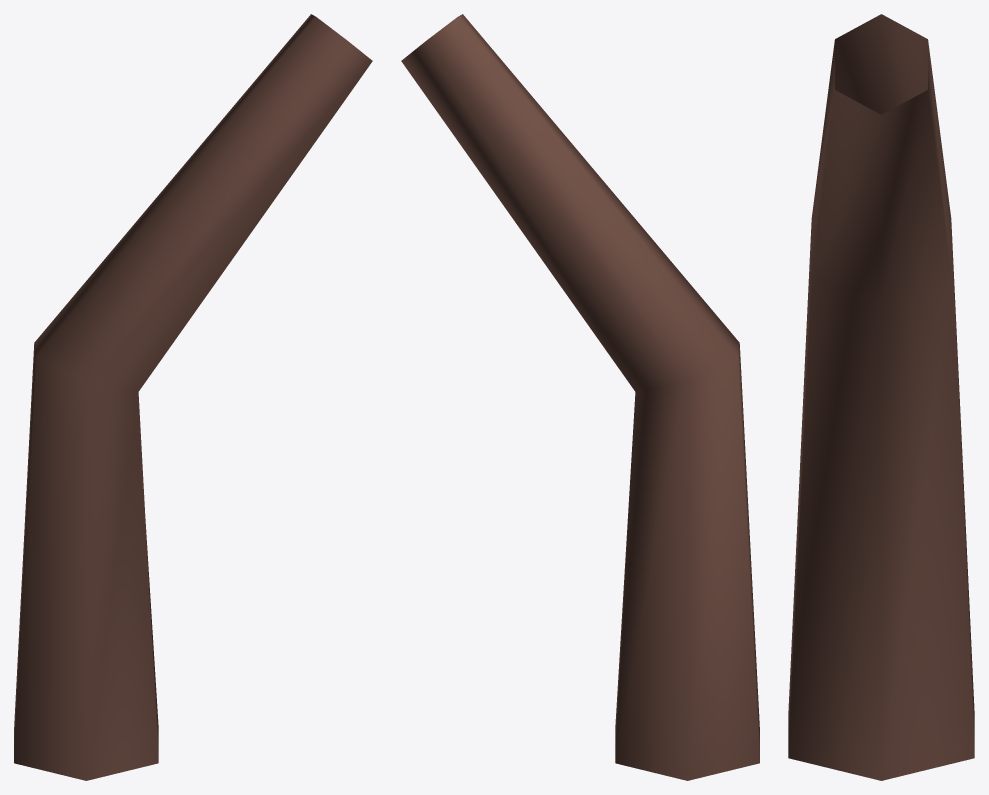
3 renders of one model, left to right at view 1: azimuth 30°, elevation 25°; view 2: azimuth 150°, elevation 25°; view 3: azimuth 270°, elevation 25°, orthographic. The views are drawn at different scales.
Bounding box in the file's own units: 0.9778 × 1.78 × 0.3464.
